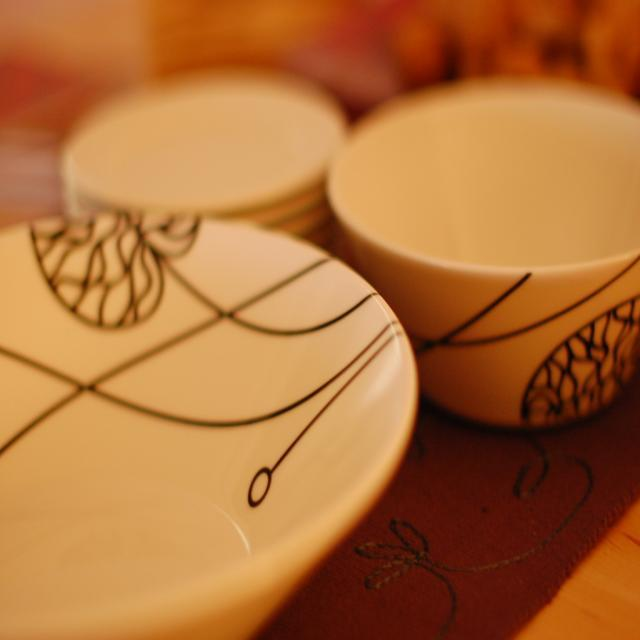ceramic plate: (0, 158, 404, 639)
